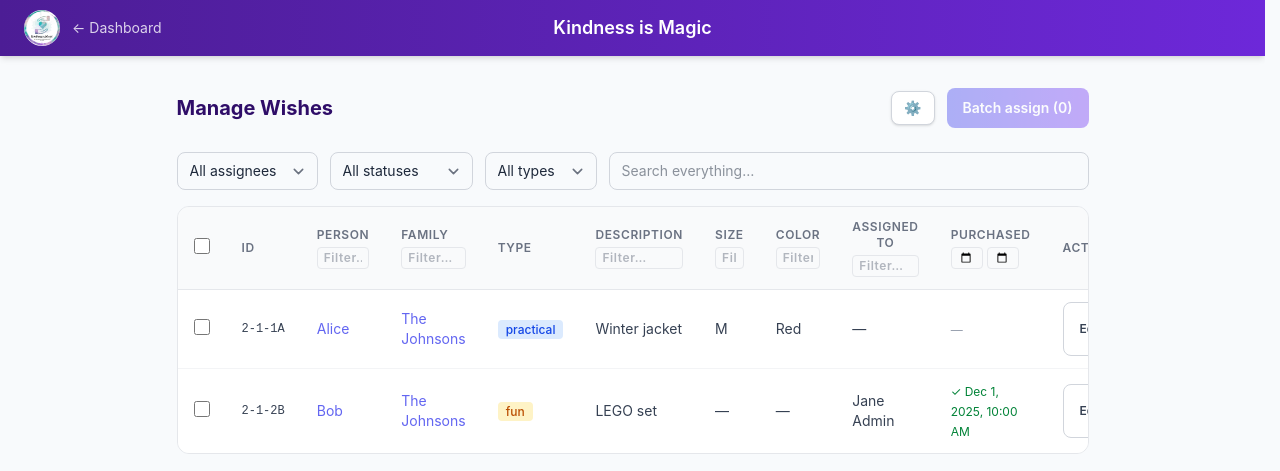
Test: AdminWishes › select all checkbox toggles all rows
Expected: the link "Alice" is shown, [317,320,349,337]
Note: Click select all
Click the checkbox named "Select all wishes on this page" at [202, 246], box [194,238,210,254]
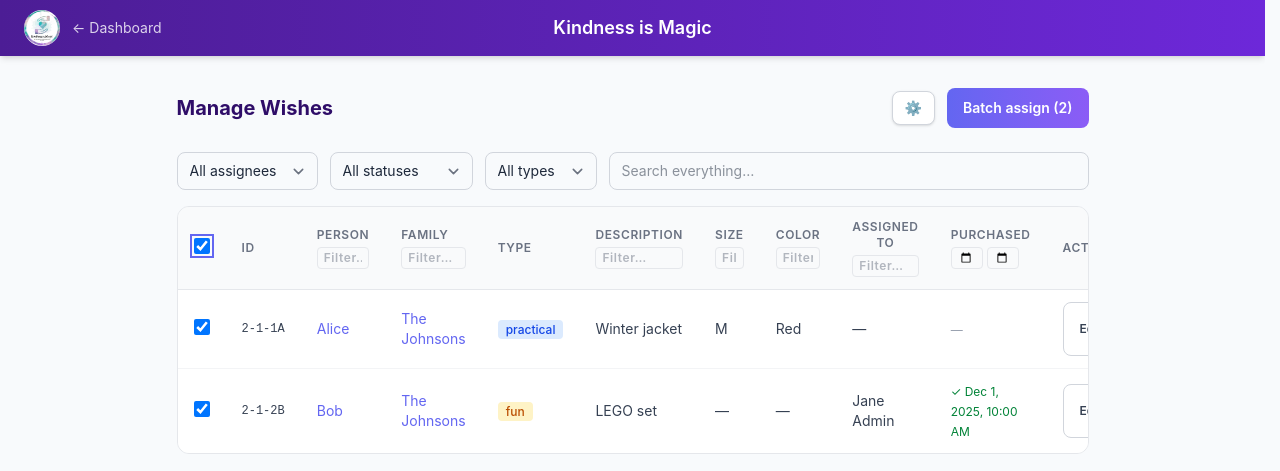
Now the button "Batch assign (2)" is shown, box [947,88,1088,128]
Note: Click again to deselect all
Click the checkbox named "Select all wishes on this page" at [202, 246], box [194,238,210,254]
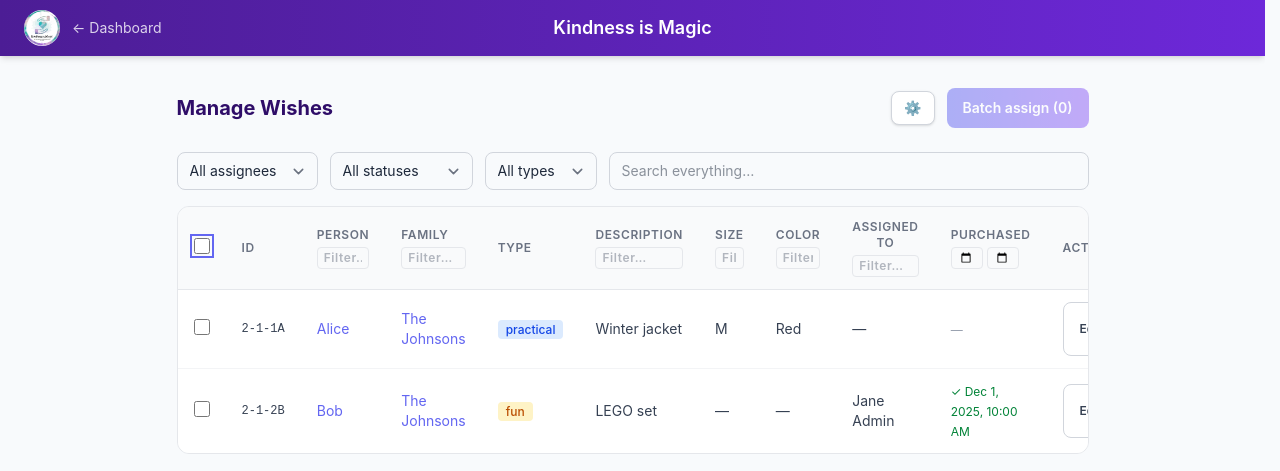
Now the button "Batch assign (0)" is shown, box [946,88,1088,128]
